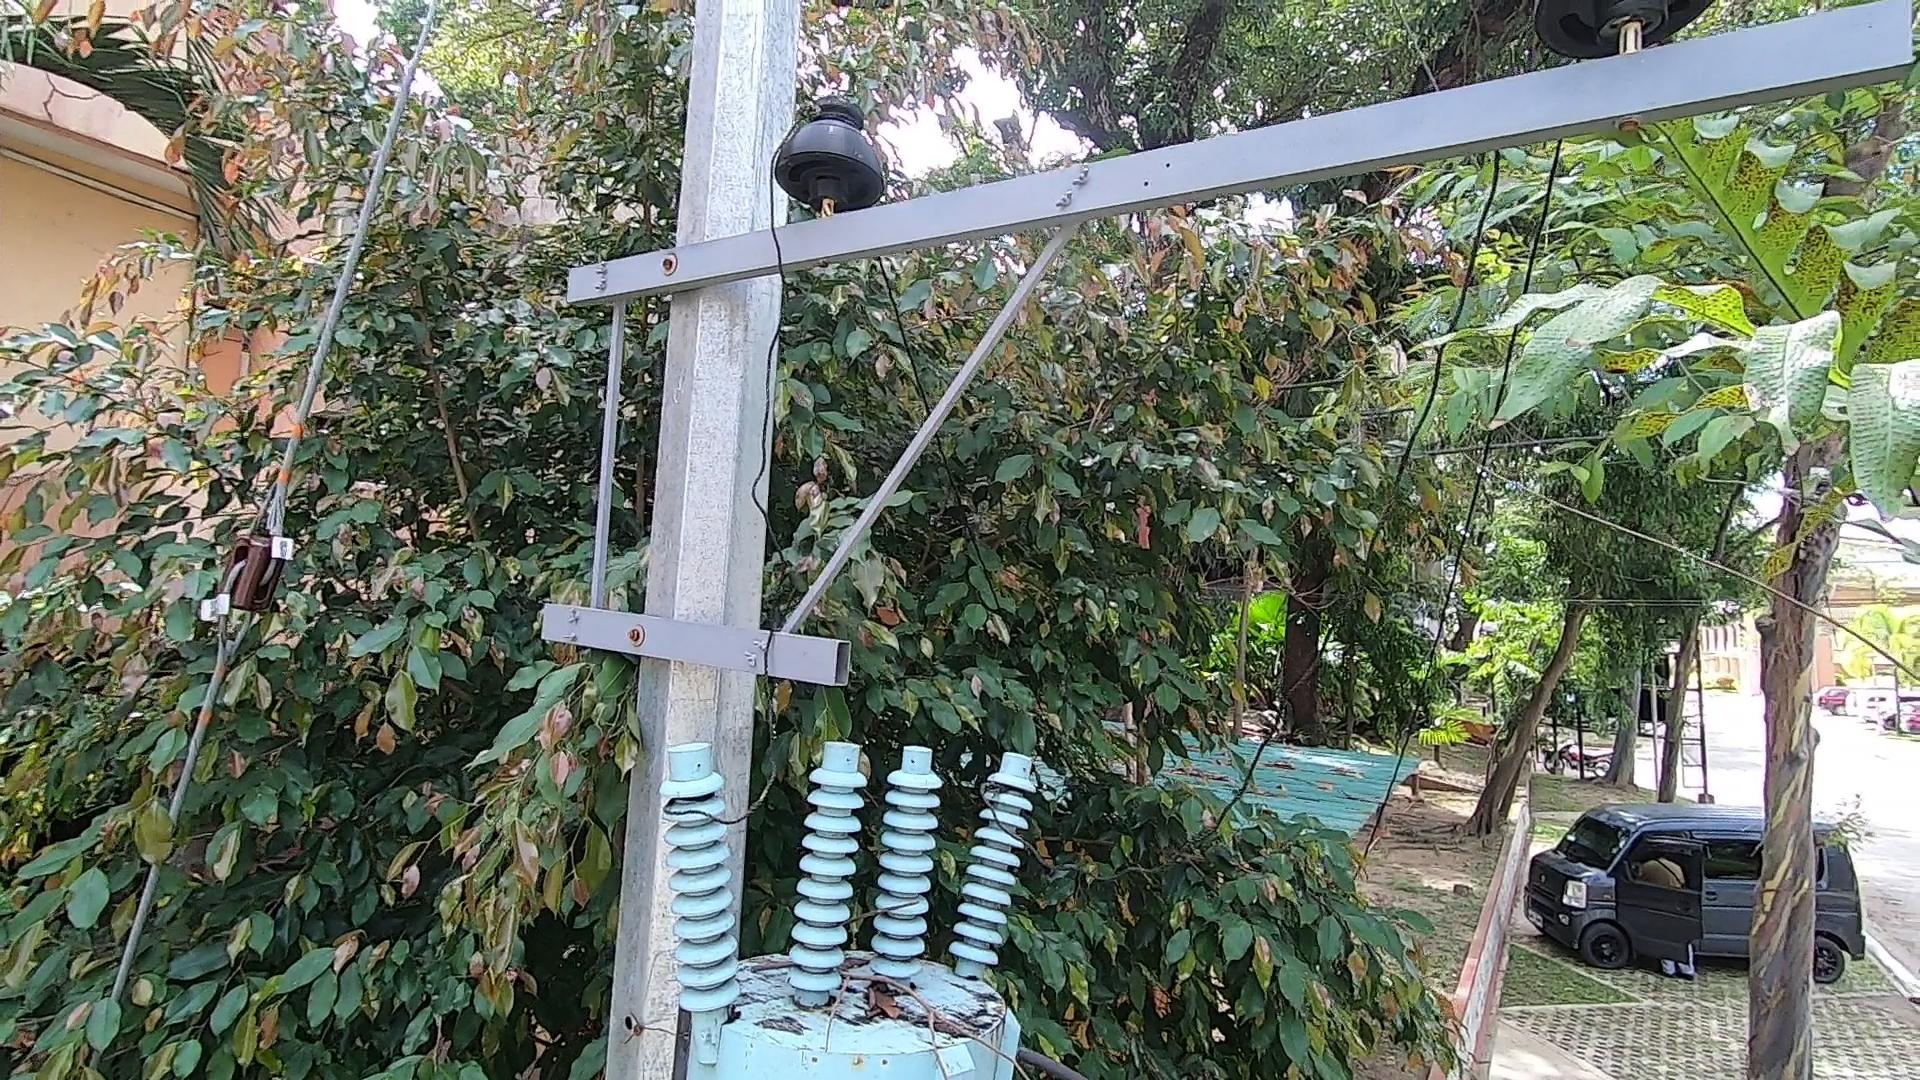leaf: (852, 975, 905, 1030)
tree branch: (731, 934, 1031, 1080)
